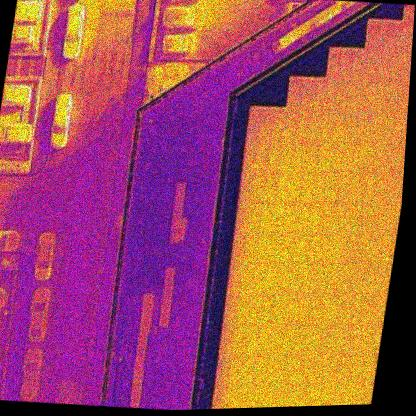Hotspot: (243, 135, 261, 170), (227, 261, 245, 295), (292, 231, 309, 266), (375, 234, 393, 267), (314, 141, 333, 172), (271, 108, 289, 140), (300, 76, 317, 109), (327, 141, 345, 172), (345, 294, 362, 326), (324, 171, 341, 203), (337, 265, 354, 296), (344, 203, 361, 234), (337, 173, 353, 204)
Normal: (278, 231, 298, 265), (263, 261, 282, 296), (274, 169, 294, 202), (267, 231, 286, 265), (254, 229, 273, 263), (307, 108, 326, 142), (239, 167, 257, 202), (362, 234, 381, 267), (308, 202, 327, 235), (299, 170, 318, 203), (215, 352, 234, 385), (239, 261, 257, 295), (296, 201, 314, 235), (244, 323, 262, 357), (287, 171, 306, 203), (291, 140, 310, 172), (354, 110, 371, 145), (276, 263, 294, 296), (323, 264, 341, 297), (371, 173, 389, 206), (279, 138, 297, 171), (259, 106, 277, 139), (301, 353, 319, 386), (347, 353, 365, 386), (263, 170, 282, 201), (312, 264, 329, 298), (352, 233, 369, 267), (377, 112, 394, 146), (332, 109, 349, 143), (393, 81, 410, 115), (235, 293, 253, 325), (259, 292, 277, 324), (319, 295, 337, 327), (300, 264, 318, 296), (304, 233, 322, 265), (327, 234, 345, 266), (283, 202, 301, 234), (320, 202, 338, 234), (312, 171, 330, 203), (267, 138, 285, 170), (303, 140, 321, 172), (295, 108, 313, 140), (326, 48, 344, 80), (388, 21, 406, 53), (288, 354, 306, 386), (313, 355, 331, 387), (231, 323, 249, 355), (280, 323, 298, 355), (291, 323, 309, 355), (315, 324, 333, 356), (307, 294, 324, 327), (252, 261, 269, 294), (231, 230, 248, 263), (272, 200, 289, 233), (332, 203, 349, 236), (383, 173, 400, 206), (312, 78, 329, 111), (264, 353, 281, 386), (276, 353, 293, 386), (340, 324, 357, 357), (223, 294, 241, 325), (271, 294, 289, 325), (367, 294, 385, 325), (260, 200, 278, 231), (389, 114, 407, 145), (320, 110, 338, 141), (346, 81, 364, 112), (380, 82, 398, 113), (362, 324, 379, 356), (284, 293, 301, 325), (288, 264, 305, 296), (243, 230, 260, 262), (316, 234, 333, 266), (340, 233, 357, 265), (367, 204, 384, 236), (379, 203, 396, 235), (251, 169, 268, 201), (359, 173, 376, 205), (343, 110, 359, 144), (366, 111, 382, 145), (323, 79, 340, 111), (338, 49, 355, 81), (362, 50, 379, 82), (227, 354, 244, 386), (253, 353, 270, 385), (359, 353, 375, 387), (268, 324, 285, 356), (360, 265, 377, 296), (255, 139, 272, 170), (247, 106, 264, 137), (334, 79, 351, 110), (365, 21, 382, 52), (256, 323, 273, 354), (359, 80, 375, 112), (336, 354, 352, 386), (329, 325, 345, 357), (372, 265, 389, 295), (247, 201, 264, 231), (362, 144, 379, 174), (284, 109, 301, 139), (288, 79, 305, 109), (351, 50, 368, 80), (376, 22, 393, 52), (240, 355, 257, 385), (219, 324, 236, 354), (304, 325, 321, 355), (356, 295, 372, 326), (349, 265, 365, 296), (236, 200, 252, 231), (348, 173, 364, 204), (351, 143, 367, 174), (325, 355, 341, 386), (395, 54, 412, 83), (248, 294, 264, 324), (296, 295, 312, 325), (333, 295, 349, 325), (356, 204, 372, 234), (375, 145, 391, 175), (352, 325, 368, 355), (340, 143, 355, 174), (373, 52, 388, 83), (247, 383, 265, 408), (388, 145, 403, 175), (370, 82, 385, 112), (385, 53, 400, 83), (400, 22, 414, 54), (212, 382, 228, 409), (224, 384, 241, 409), (272, 384, 290, 407), (284, 384, 302, 407), (236, 385, 253, 408), (260, 385, 277, 407), (342, 385, 360, 405), (308, 385, 325, 406), (354, 384, 371, 405), (320, 385, 336, 406), (298, 384, 313, 406), (332, 385, 347, 405)
